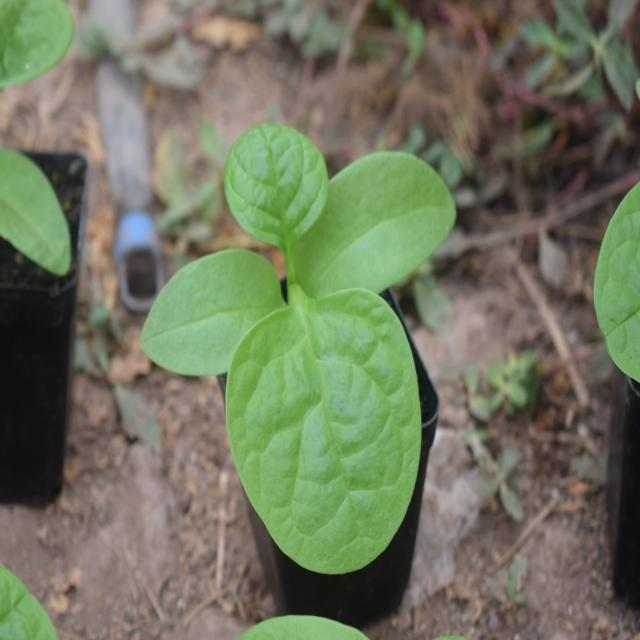Ceylon spinach: (151, 109, 454, 576)
